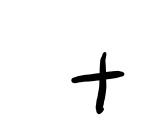plus: (72, 52, 125, 114)
